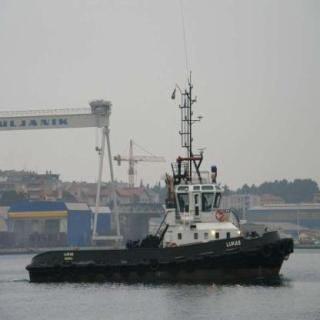Tug Boat: (12, 124, 278, 274)
